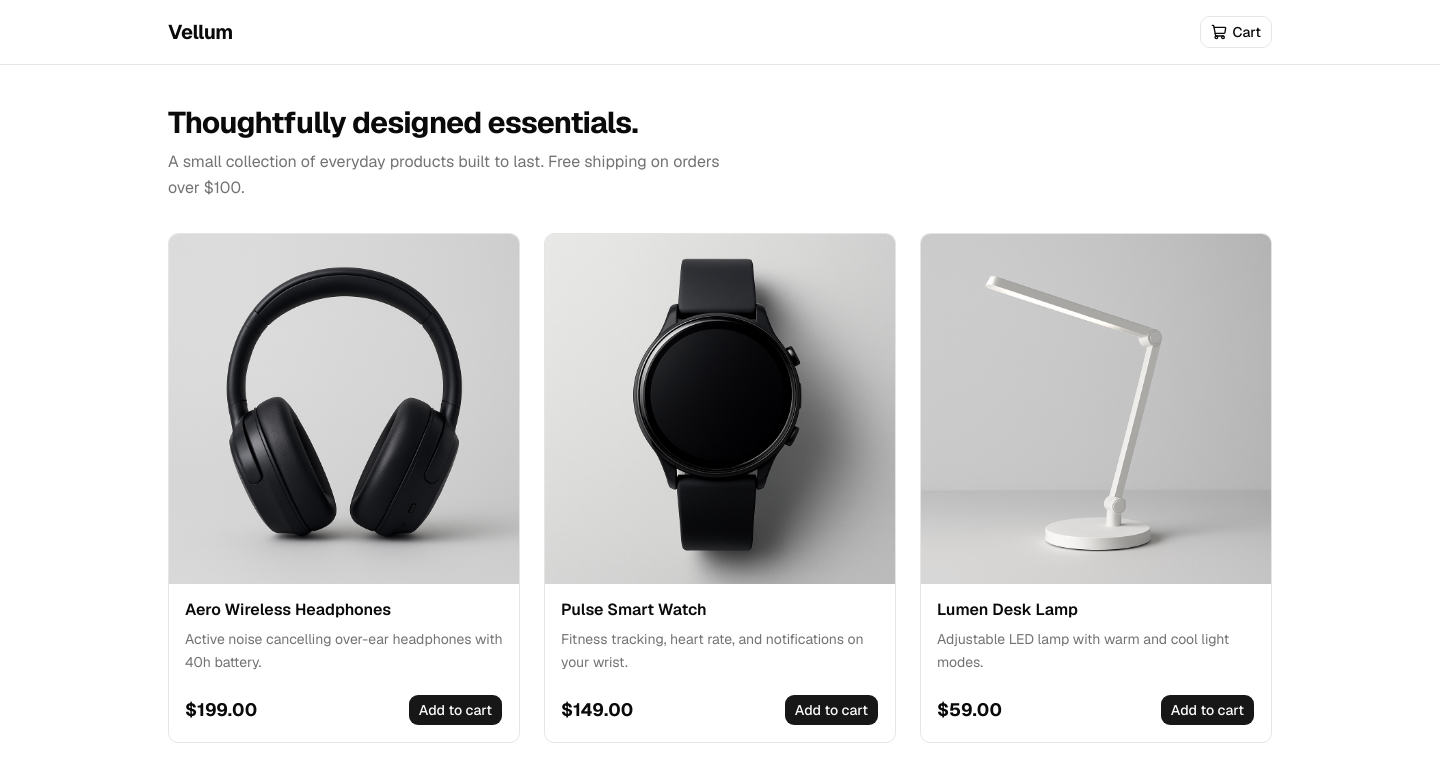
Test: Store cart integration › updates the cart when a product is added
The image size is (1440, 763).
# Add the first product from the grid.
Click the button with aria-label "Add Aero Wireless Headphones to cart".
click(455, 710)  # box [408,694,503,726]
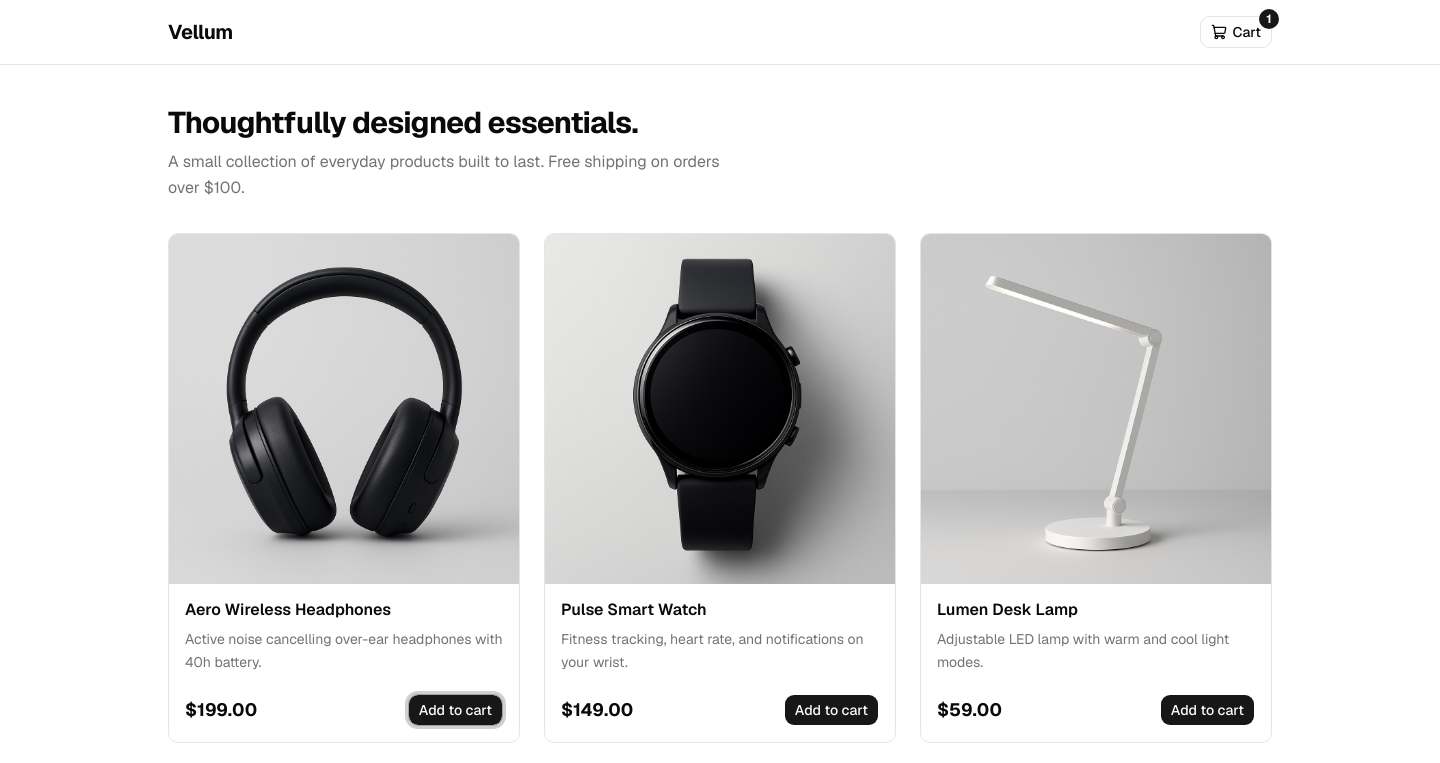
Expected: the text with test id "cart-count" reads "1", [1266,11,1272,27]
# Open the cart panel.
Click the button with aria-label "Open cart".
click(1236, 32)  # box [1200,16,1272,48]
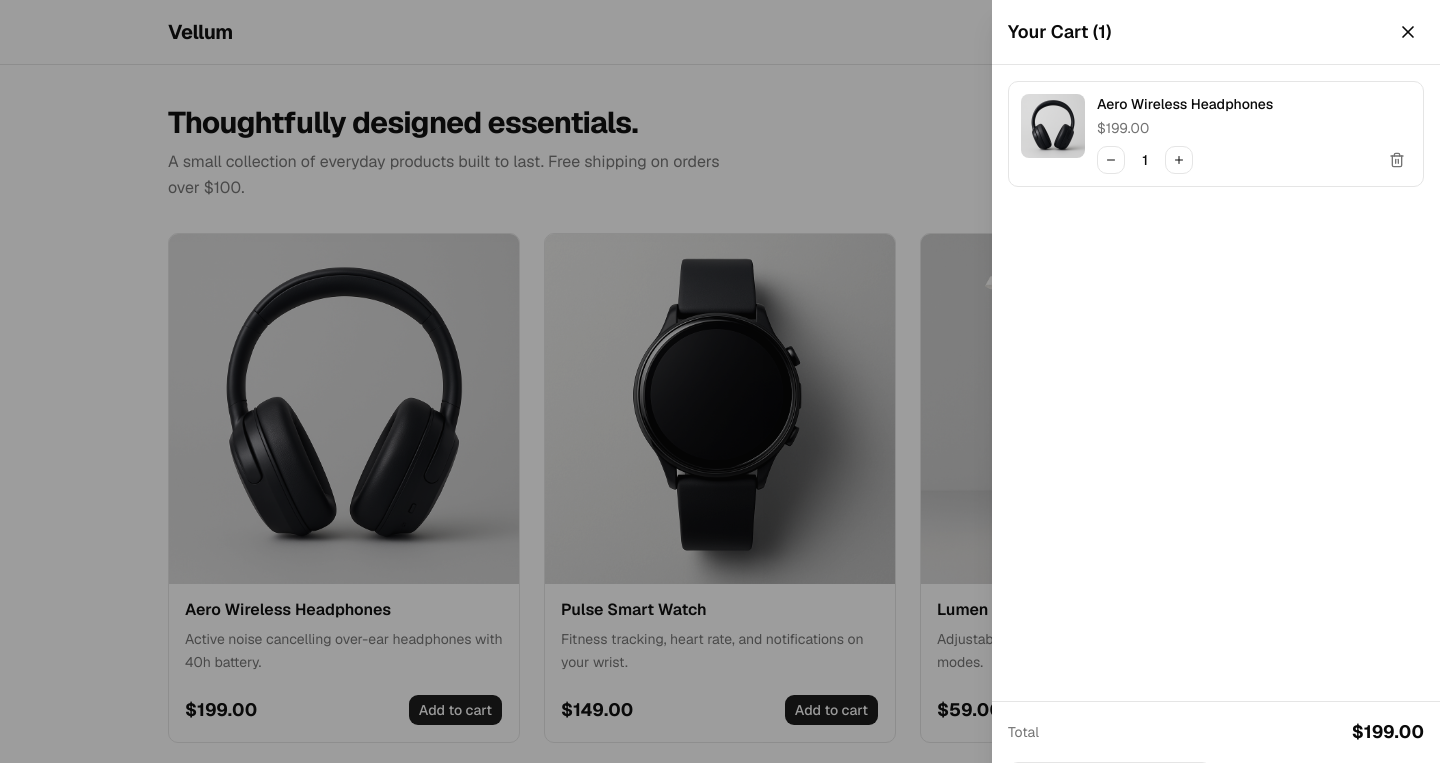
Expected: the heading "Your Cart (1)" is shown, [1008,18,1112,46]
Expected: the text with test id "cart-total" reads "$199.00", [1352,720,1424,743]
